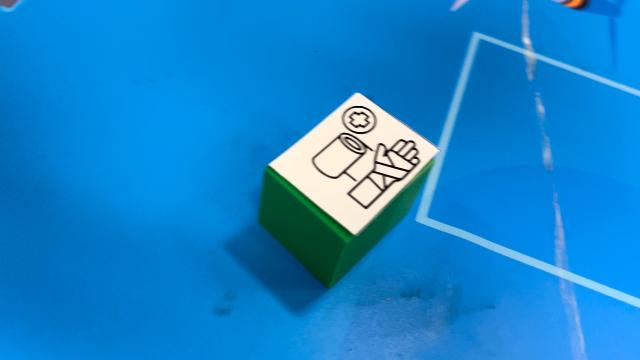bandage: (257, 92, 441, 288)
